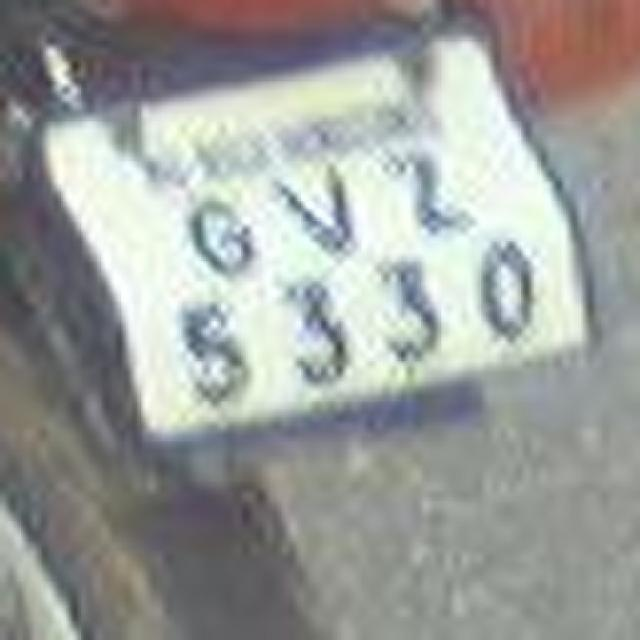0: (0, 1, 1, 2)
3: (260, 256, 368, 392), (356, 240, 464, 365)
H: (384, 125, 491, 240)
U: (252, 148, 376, 260)
